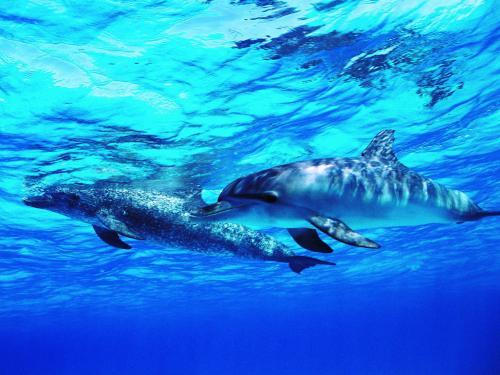fish: (18, 172, 335, 276), (194, 128, 500, 224)
